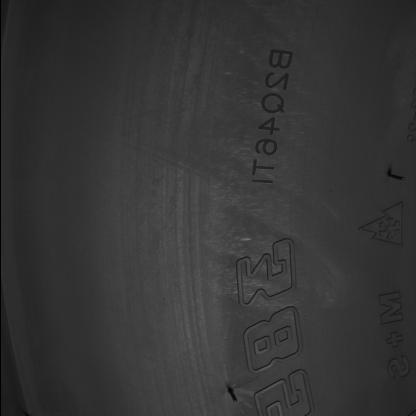ocr: (248, 48, 294, 184)
